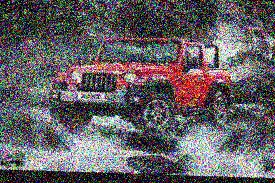car: (41, 25, 238, 135)
